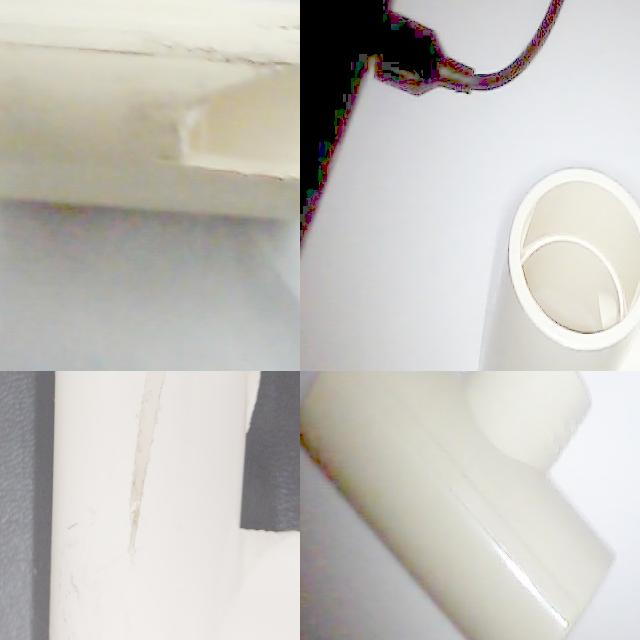Defective: (178, 69, 300, 182), (0, 463, 89, 518)
T Joint: (300, 371, 616, 640), (0, 371, 245, 639), (477, 167, 640, 371)
